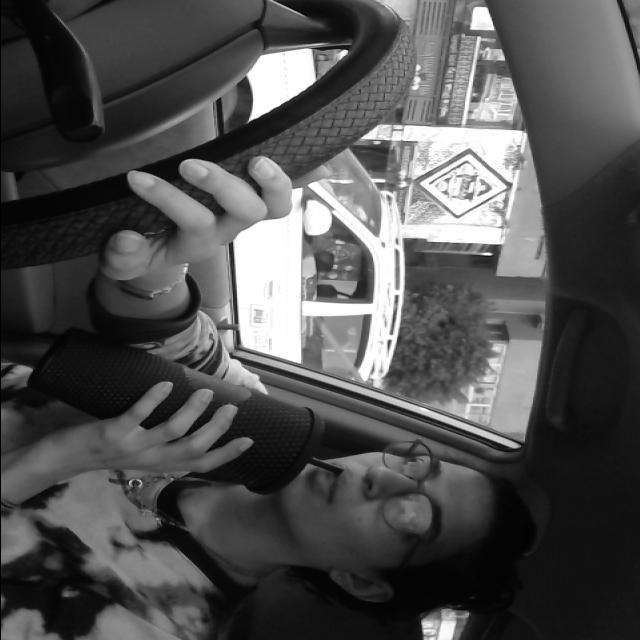drinking: (34, 289, 340, 501)
